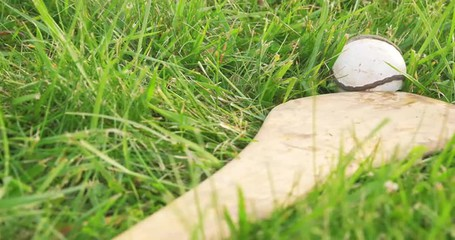hurley: (105, 90, 455, 239)
